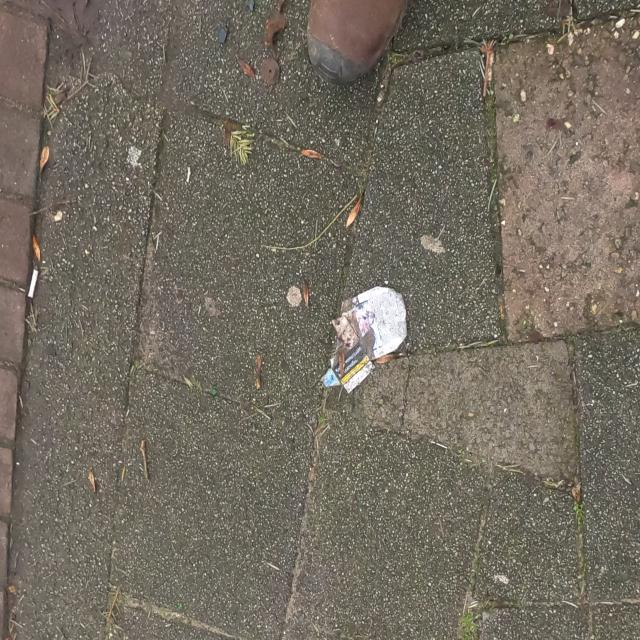Paper: (321, 284, 408, 396)
